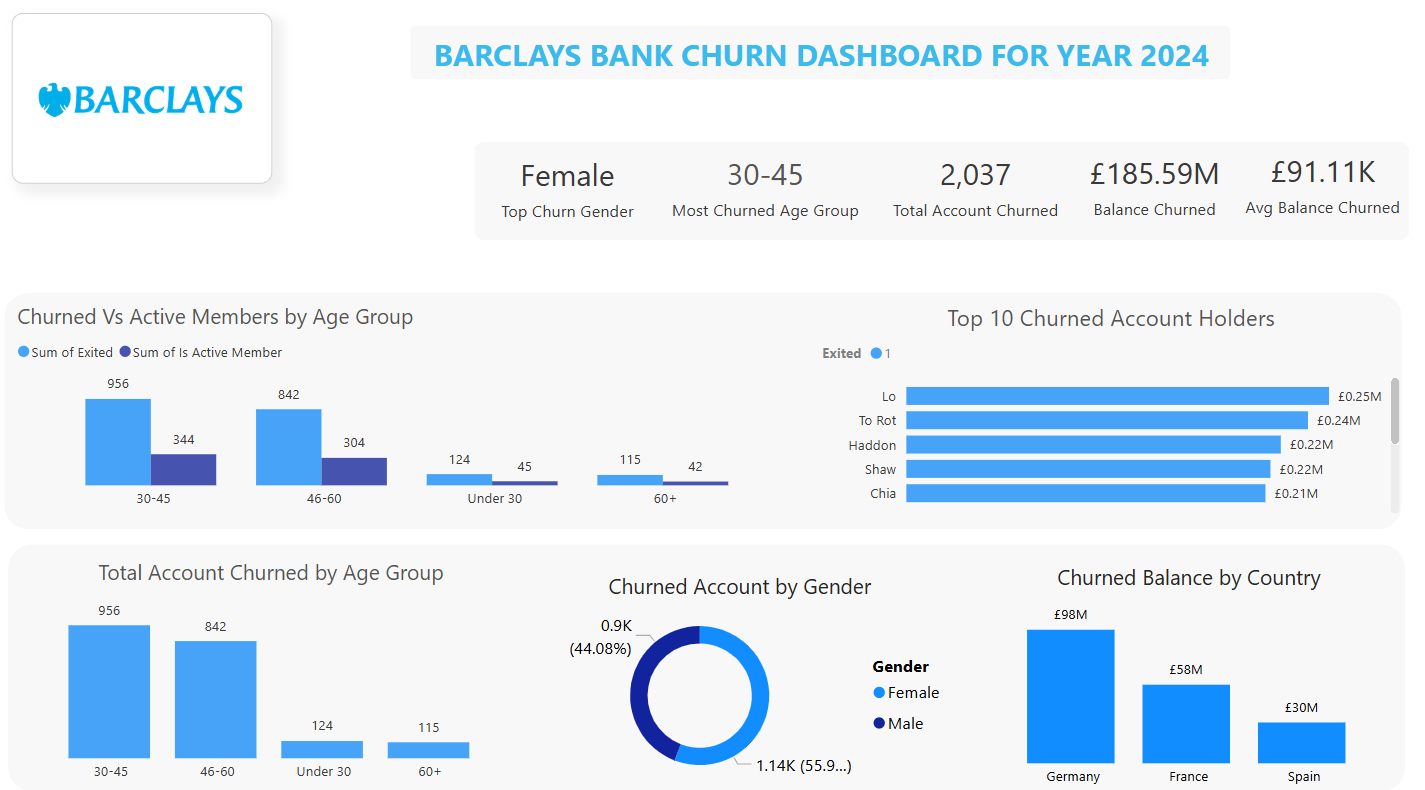

Layout of this report page (visuals, bound fields, positions):
{"tool":"powerbi","page":{"name":"Dashboard","canvas":[1280,720],"ordinal":0},"visuals":[{"type":"columnChart","fields":{"Category":["Churn_Modelling.Age Group"],"Y":["CountNonNull(Churn_Modelling.Exited)"]},"box":[24.7,507.7,446,208.6],"z":0},{"type":"barChart","title":"Top 10 Churned Account Holders","fields":{"Category":["Churn_Modelling.Surname"],"Series":["Churn_Modelling.Exited"],"Y":["Sum(Churn_Modelling.Balance)"]},"box":[733.6,279.4,524.3,193.7],"z":1000},{"type":"shape","box":[13.4,495.4,1244.5,220.4],"z":2000},{"type":"donutChart","title":"Churned Account by Gender","fields":{"Category":["Churn_Modelling.Gender"],"Y":["CountNonNull(Churn_Modelling.Exited)"]},"box":[470.7,520.1,388.3,196.2],"z":3000},{"type":"clusteredColumnChart","fields":{"Category":["Churn_Modelling.Geography"],"Y":["Sum(Churn_Modelling.Balance)"]},"box":[875.5,511.8,380.1,208.6],"z":4000},{"type":"card","fields":{"Values":["Sum(Churn_Modelling.Exited)"]},"box":[788.2,137.2,174.3,78.2],"z":5000},{"type":"card","fields":{"Values":["Sum(Churn_Modelling.Balance)"]},"box":[946,122.1,177,105.7],"z":6000},{"type":"card","fields":{"Values":["Churn_Modelling.Avg Balance Churned"]},"box":[1102.4,122.1,164.7,101.5],"z":7000},{"type":"card","fields":{"Values":["Min(Churn_Modelling.Age Group)"]},"box":[587.9,131.7,200.3,89.2],"z":8000},{"type":"card","fields":{"Values":["Min(Churn_Modelling.Gender)"]},"box":[416.3,130.4,190.7,93.3],"z":9000},{"type":"clusteredColumnChart","title":"Churned Vs Active Members by Age Group","fields":{"Category":["Churn_Modelling.Age Group"],"Y":["Sum(Churn_Modelling.Exited)","Sum(Churn_Modelling.Is Active Member)"]},"box":[16.7,279.4,709.1,193.7],"z":10000},{"type":"image","box":[16.5,22,231.9,152.3],"z":11000},{"type":"shape","box":[10,271.6,1244.5,210.4],"z":12000},{"type":"shape","box":[428.1,137.2,832.9,87.8],"z":13000},{"type":"textbox","box":[120.8,30.2,1137.6,56.3],"z":13001},{"type":"shape","box":[371.8,33.4,730.2,47.9],"z":13002}]}

Visuals, with their boxes in screenshot pixels (x1, y1, x2, y2), scaled from the page's 1280x720 canvas onto the 1425x790 screenshot:
columnChart - Churn_Modelling.Age Group x CountNonNull(Churn_Modelling.Exited): 27 557 524 786
"Top 10 Churned Account Holders" barChart: 817 307 1400 519
shape: 15 544 1400 785
"Churned Account by Gender" donutChart: 524 571 956 786
clusteredColumnChart - Churn_Modelling.Geography x Sum(Churn_Modelling.Balance): 975 562 1398 789
card - Sum(Churn_Modelling.Exited): 877 151 1072 236
card - Sum(Churn_Modelling.Balance): 1053 134 1250 250
card - Churn_Modelling.Avg Balance Churned: 1227 134 1411 245
card - Min(Churn_Modelling.Age Group): 654 145 877 242
card - Min(Churn_Modelling.Gender): 463 143 676 245
"Churned Vs Active Members by Age Group" clusteredColumnChart: 19 307 808 519
image: 18 24 277 191
shape: 11 298 1397 529
shape: 477 151 1404 247
textbox: 134 33 1401 95
shape: 414 37 1227 89
